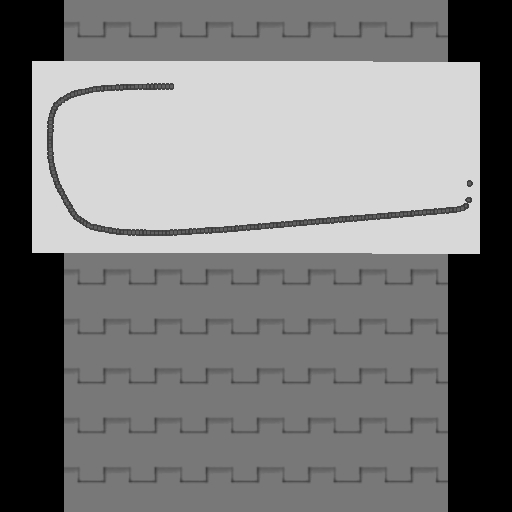Defect: (172, 79, 458, 115)
